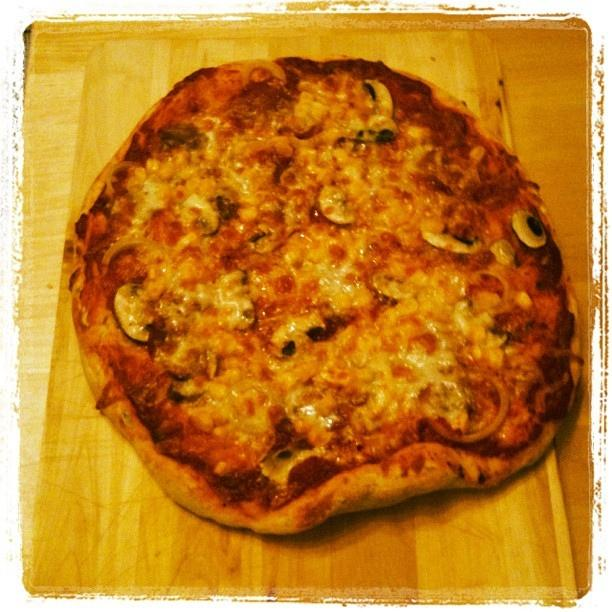mushroom: (453, 298, 508, 348), (268, 312, 327, 357), (114, 283, 151, 345), (177, 194, 221, 236), (318, 185, 356, 225), (511, 210, 547, 250), (422, 233, 483, 254), (364, 80, 393, 120), (373, 274, 414, 298), (367, 116, 399, 143), (246, 227, 278, 252), (169, 362, 192, 380)
